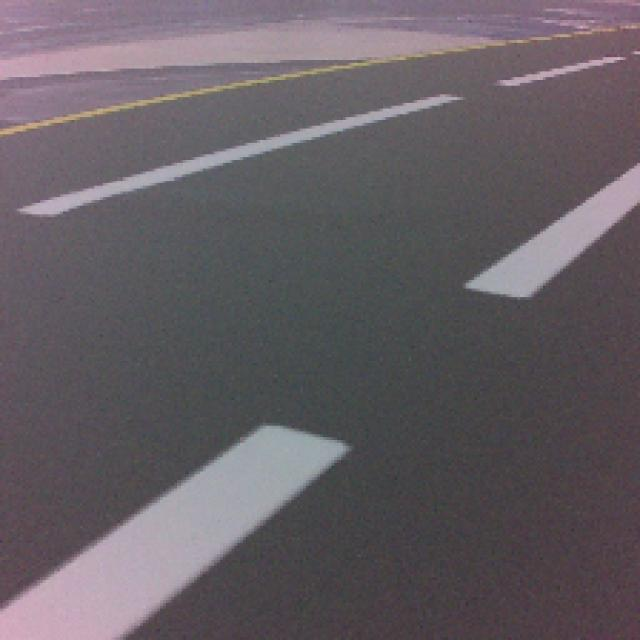Guard rail: (0, 420, 349, 638)
